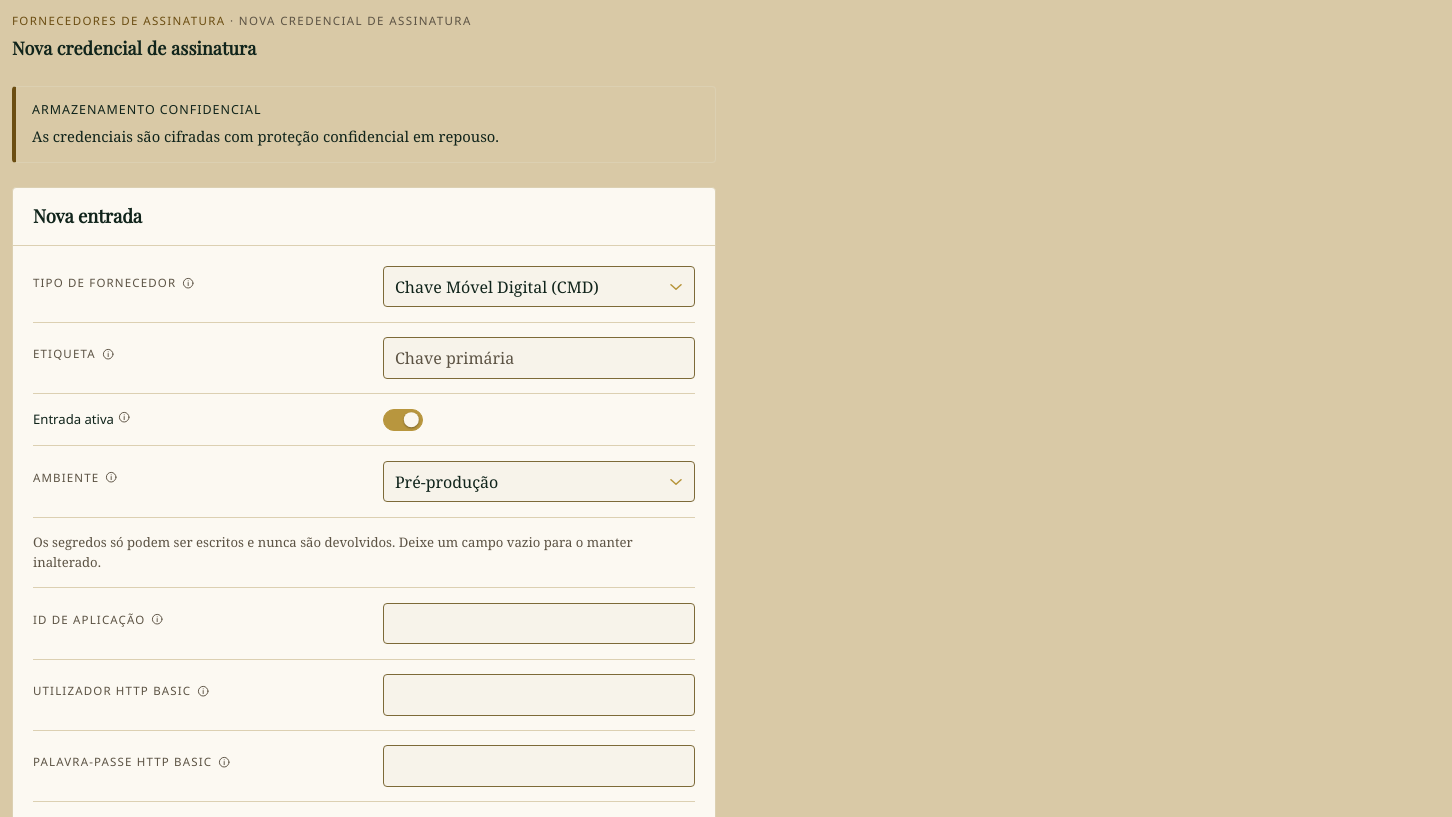
ProviderCredentialPage › creates on a dedicated mode-prefilled page and returns to the provider list
Expected: the dropdown labelled "Tipo de fornecedor" shows "Chave Móvel Digital (CMD)", [383,266,695,307]
Type "cmd-app-id" into the field labelled "ID de aplicação".
click(539, 623); type("cmd-app-id")  # box [383,603,695,644]
(page scrolled)
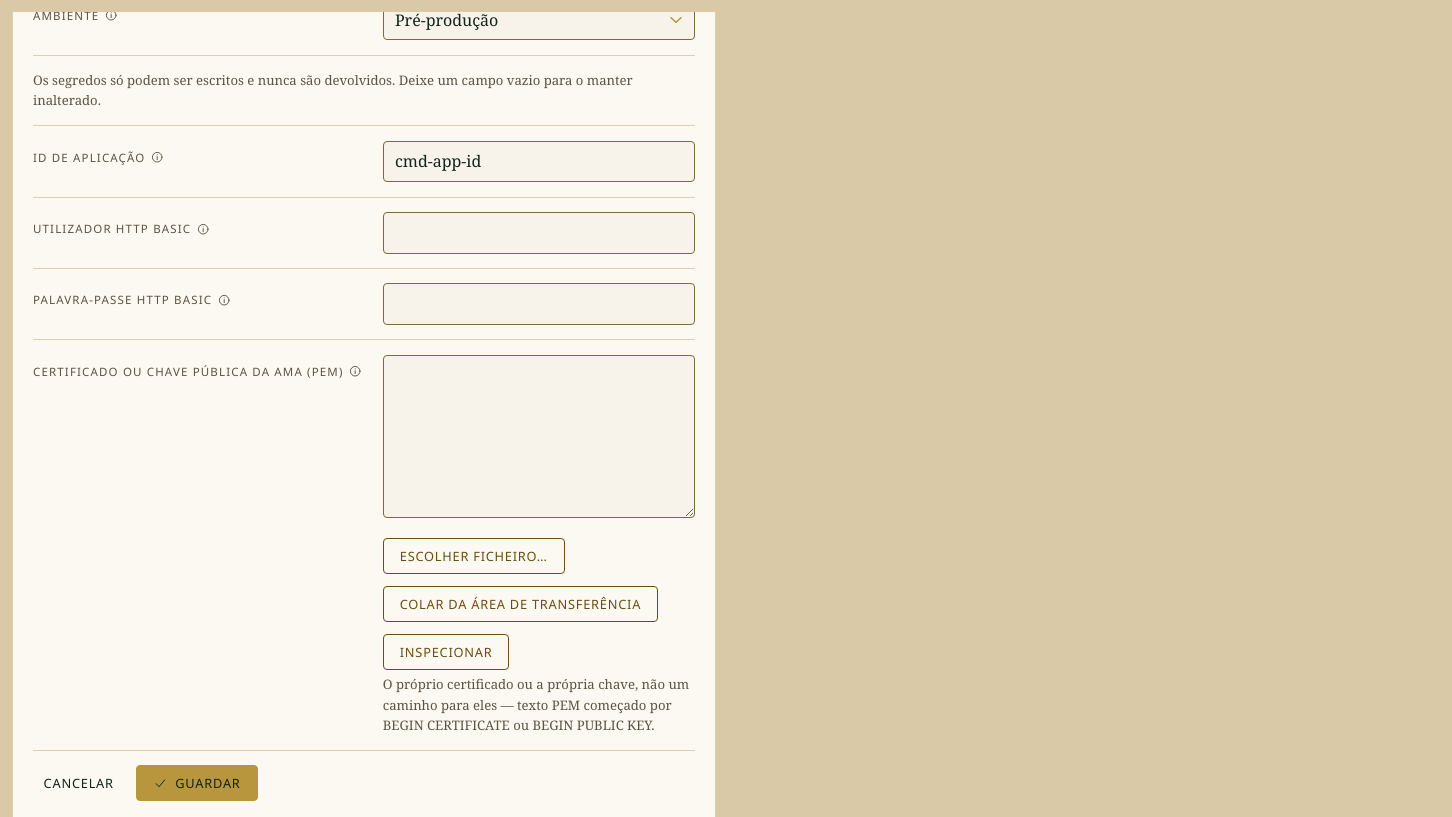
Click the button "Guardar".
click(197, 783)  # box [136,765,258,801]
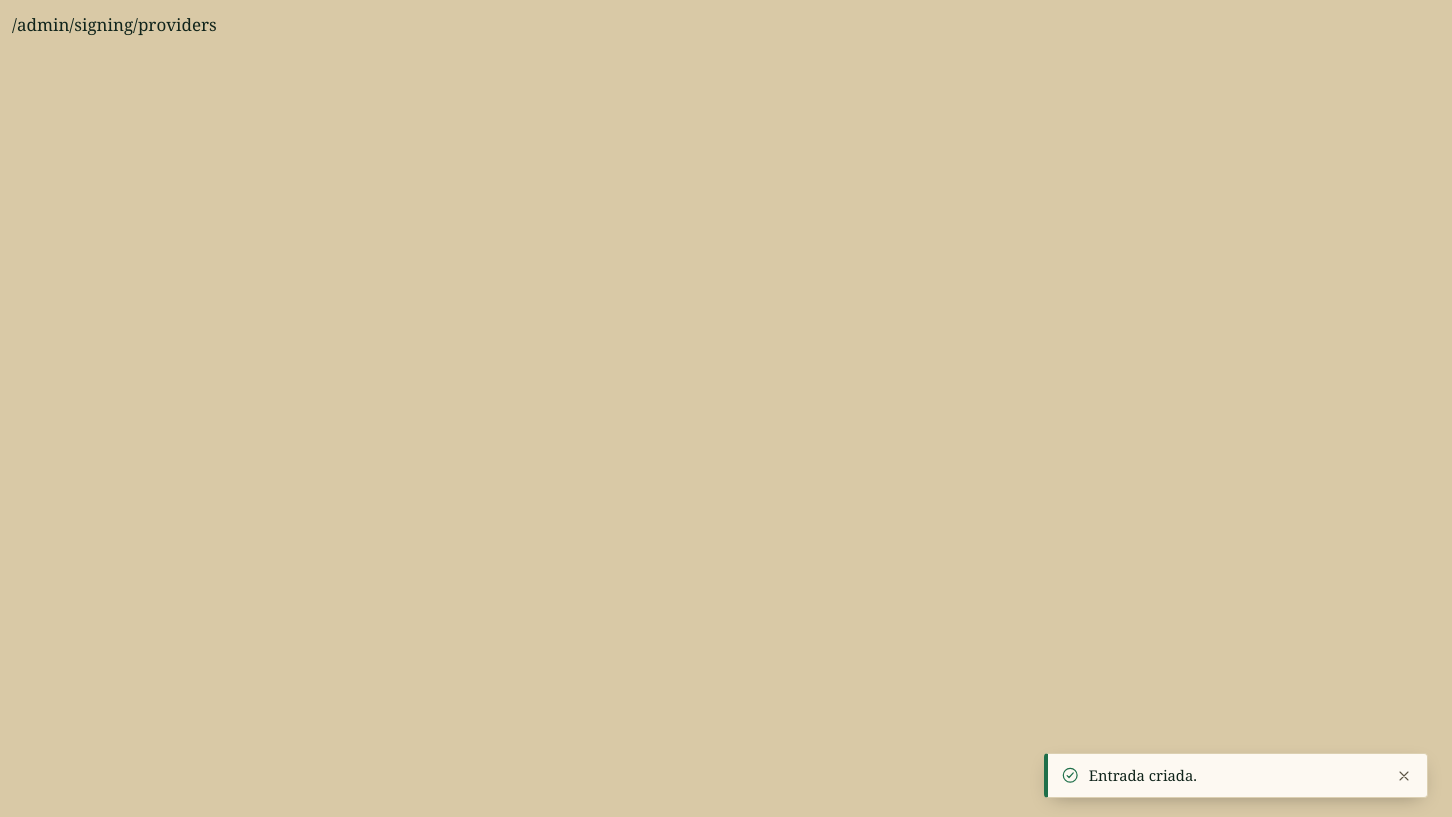
Expected: the text with test id "location" reads "/admin/signing/providers", [12,13,217,36]
